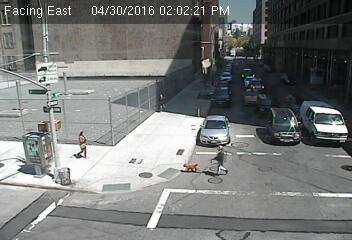neg: (266, 92, 305, 144)
